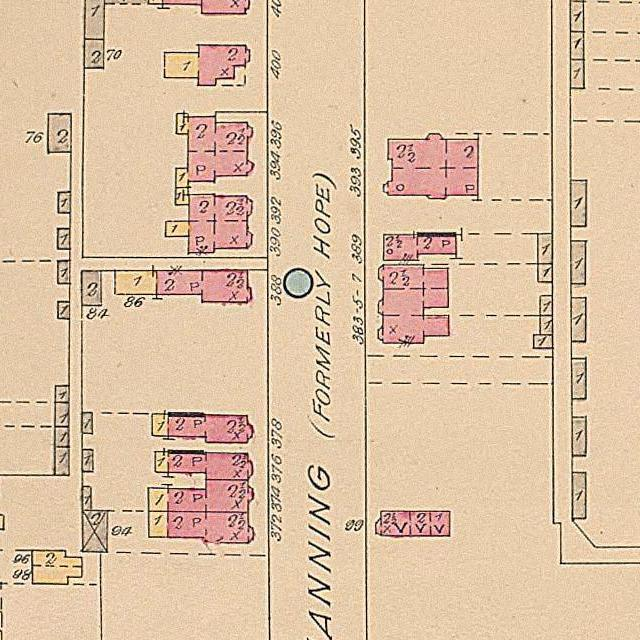building-footprints: (384, 134, 478, 199), (176, 114, 253, 188), (378, 265, 449, 343), (165, 194, 252, 253), (115, 270, 251, 302), (164, 45, 250, 85), (148, 511, 253, 543), (148, 480, 253, 512), (152, 414, 252, 443), (155, 451, 252, 480), (384, 235, 456, 261), (376, 511, 450, 536), (32, 550, 82, 585), (148, 0, 249, 13), (83, 511, 108, 552), (48, 114, 71, 153), (86, 0, 104, 40), (571, 180, 586, 226), (82, 271, 101, 306), (572, 472, 586, 518), (571, 298, 585, 342), (571, 241, 585, 284), (84, 39, 104, 68), (572, 358, 586, 398), (572, 417, 586, 456), (570, 1, 584, 32), (538, 234, 552, 264), (55, 447, 69, 475), (570, 32, 584, 60), (571, 59, 584, 88), (55, 402, 69, 427), (58, 192, 71, 214), (55, 427, 69, 447), (58, 261, 70, 284), (57, 228, 70, 249), (55, 386, 70, 403), (538, 264, 552, 282), (82, 412, 93, 434), (534, 335, 552, 348), (83, 449, 93, 472), (540, 296, 552, 315), (540, 315, 552, 334), (82, 486, 91, 511), (176, 188, 189, 205), (58, 302, 70, 319), (105, 0, 148, 4)
